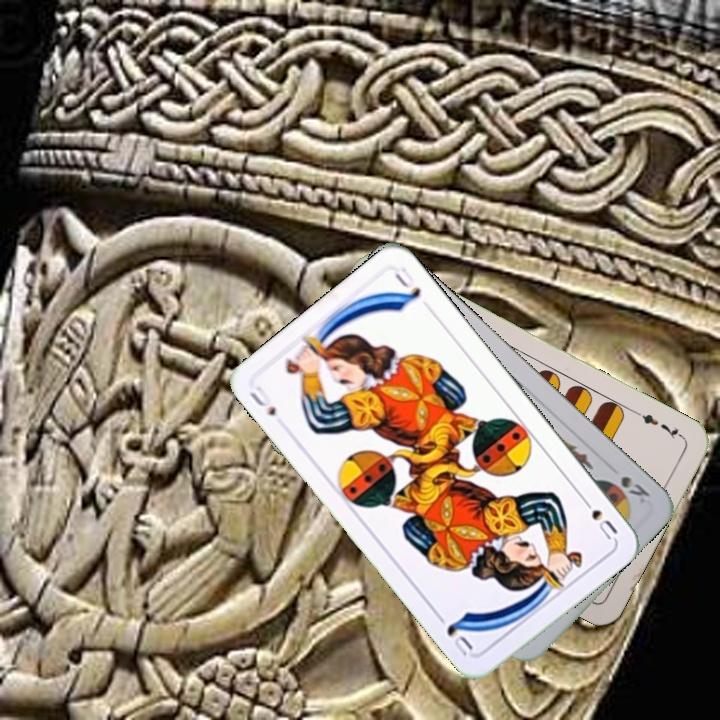E7: (631, 407, 686, 442)
SK: (617, 472, 653, 500)
SU: (576, 491, 620, 543), (245, 381, 279, 419)
